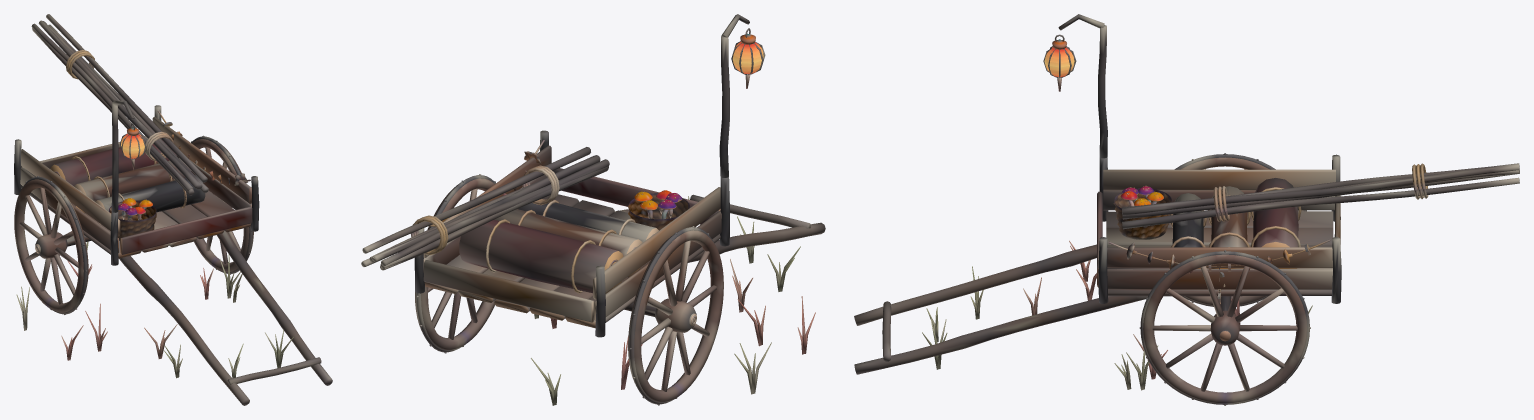
File: kamp_araba.glb
3 renders of one model, left to right at view 1: azimuth 30°, elevation 25°; view 2: azimuth 150°, elevation 25°; view 3: azimuth 270°, elevation 25°, orthographic. The views are drawn at different scales.
Parts seen in each view (by area): view 1: kamp_araba_LOD0; view 2: kamp_araba_LOD0; view 3: kamp_araba_LOD0.
Boxes of the visible parts, box(x1,y1,x2,y2) form: kamp_araba_LOD0: box(14, 14, 332, 405); kamp_araba_LOD0: box(361, 14, 825, 405); kamp_araba_LOD0: box(854, 14, 1519, 405).
Size of what is drawn, in the model's own units: 2.36 by 2.44 by 4.87.
